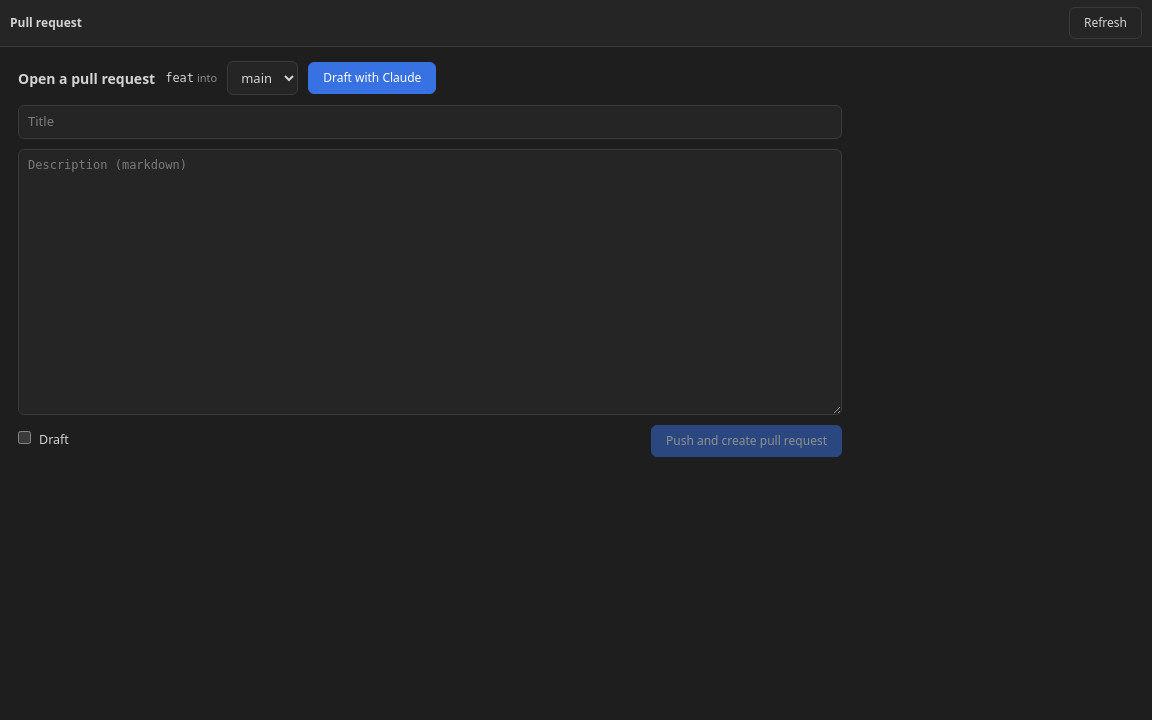
Scenario: opening a pull request › shows why gh refused, and keeps what was written
Expected: the dropdown named "Base branch" shows "main", [227,61,298,95]
Step 1. Type "T" into the field labelled "Title" → (430, 122), box [18,105,842,138]
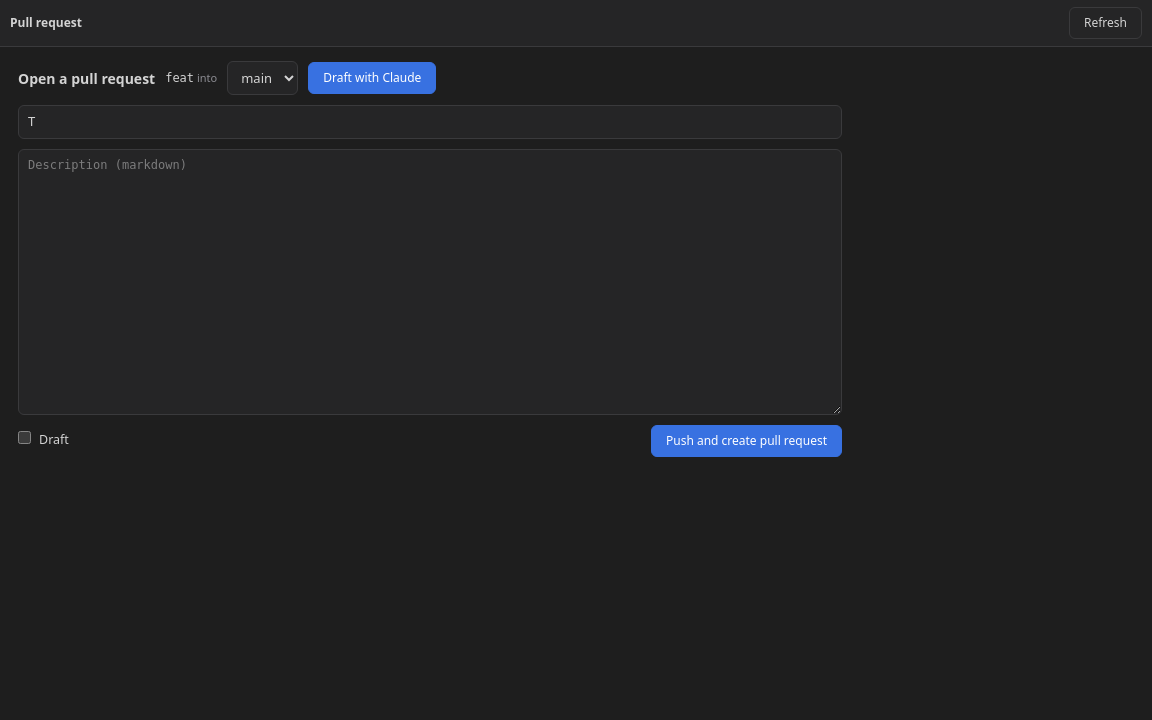
Step 2. Click the button "Push and create pull request" → (746, 440), box [651,424,842,456]
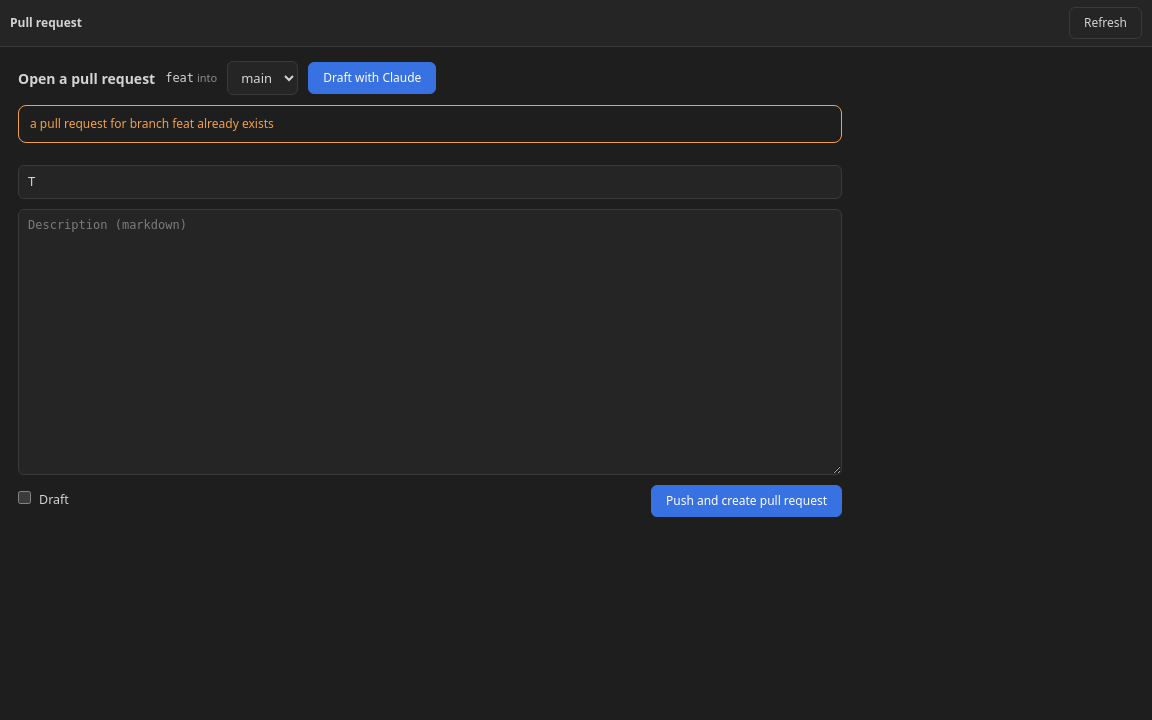
Expected: the message shows "already exists", [30,115,274,132]
